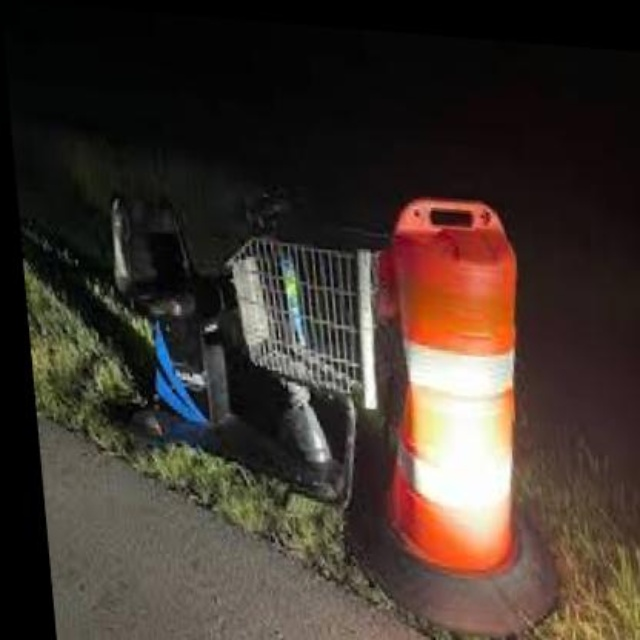obstacle: (375, 224, 537, 570)
